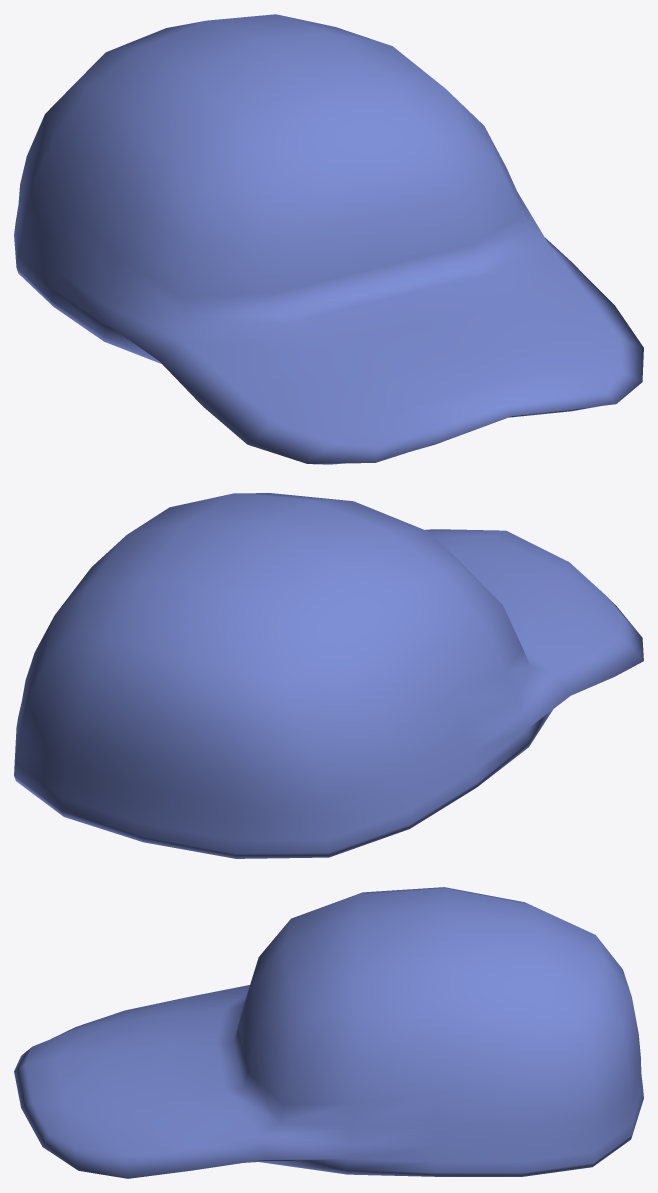
Rendered from hat.dae.
3 views of the same model, one above another, from view 1: azimuth 30°, elevation 25°; view 2: azimuth 150°, elevation 25°; view 3: azimuth 270°, elevation 25° (orthographic). The views are drawn at different scales.
Visible parts, largest first — view 1: Man; view 2: Man; view 3: Man.
Part boxes in pixels (x1,y1,x2,y2): Man: (14, 14, 643, 464); Man: (14, 493, 643, 858); Man: (14, 887, 643, 1178).
Bounding box in the file's own units: 0.0872 × 0.1313 × 0.0445.
